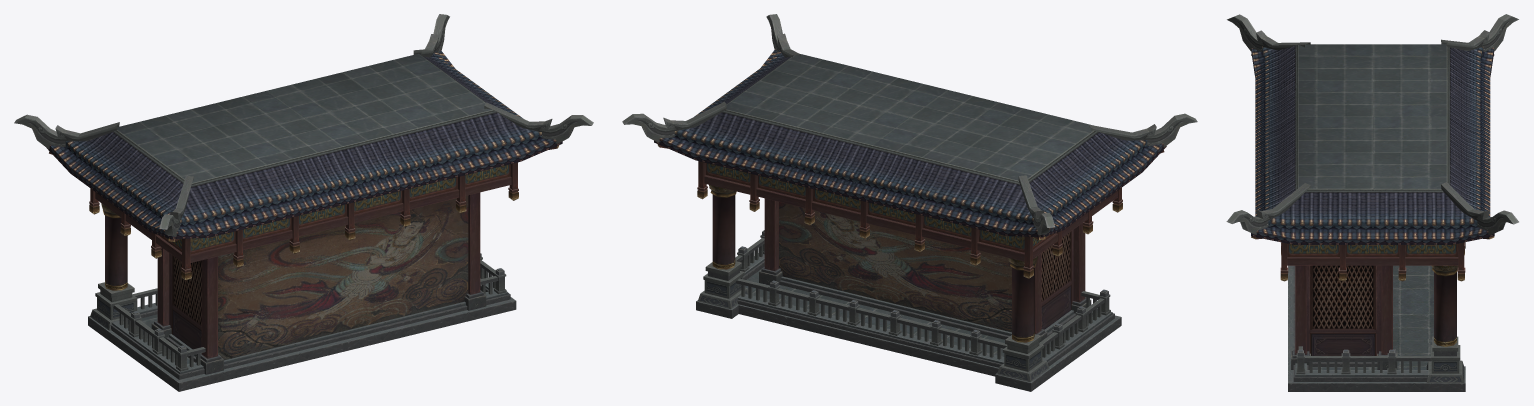
Rendered from que_lou_001.FBX.
3 views of the same model, side by side, from view 1: azimuth 30°, elevation 25°; view 2: azimuth 150°, elevation 25°; view 3: azimuth 270°, elevation 25° (orthographic). The views are drawn at different scales.
Visible parts, largest first — view 1: que_lou_001_a01; view 2: que_lou_001_a01; view 3: que_lou_001_a01.
Boxes of the visible parts, x1,y1,x2,y2 form: que_lou_001_a01: (14, 14, 593, 391); que_lou_001_a01: (622, 14, 1197, 391); que_lou_001_a01: (1226, 14, 1518, 391).
Bounding box in the file's own units: 2977 × 1337 × 1776.
Materials: 1 (1 with a texture image).
